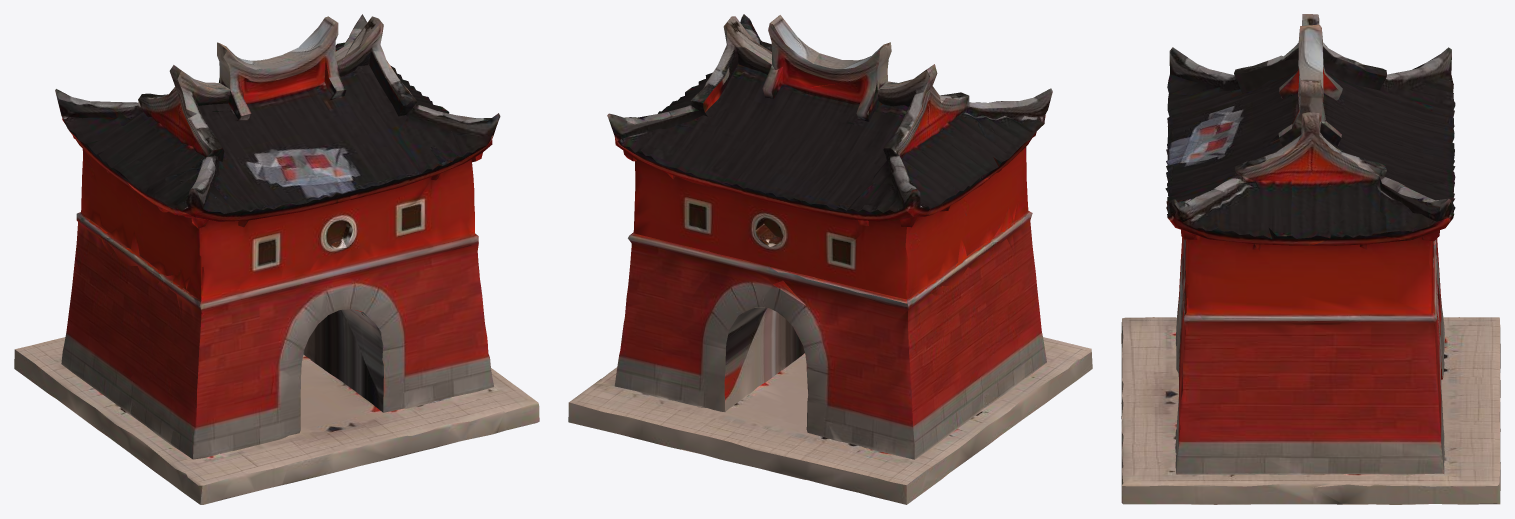
The model's file is taipei-north-gate.glb.
3 renders of one model, left to right at view 1: azimuth 30°, elevation 25°; view 2: azimuth 150°, elevation 25°; view 3: azimuth 270°, elevation 25°, orthographic.
Parts seen in each view (by area): view 1: logan-textured.obj; view 2: logan-textured.obj; view 3: logan-textured.obj.
Part boxes in pixels (x1,y1,x2,y2): logan-textured.obj: (14, 14, 539, 504); logan-textured.obj: (568, 14, 1092, 504); logan-textured.obj: (1121, 14, 1500, 504).
Bounding box in the file's own units: 0.977 × 1 × 0.9314.
Materials: 1 (1 with a texture image).
